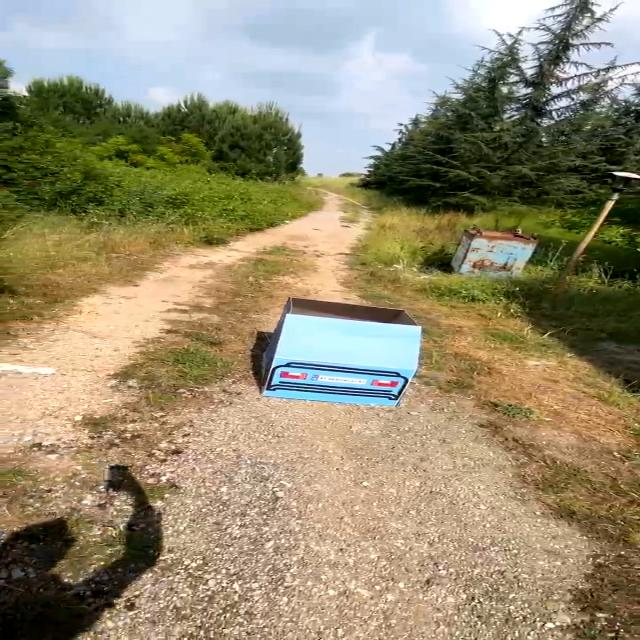blue_car: (217, 289, 441, 418)
